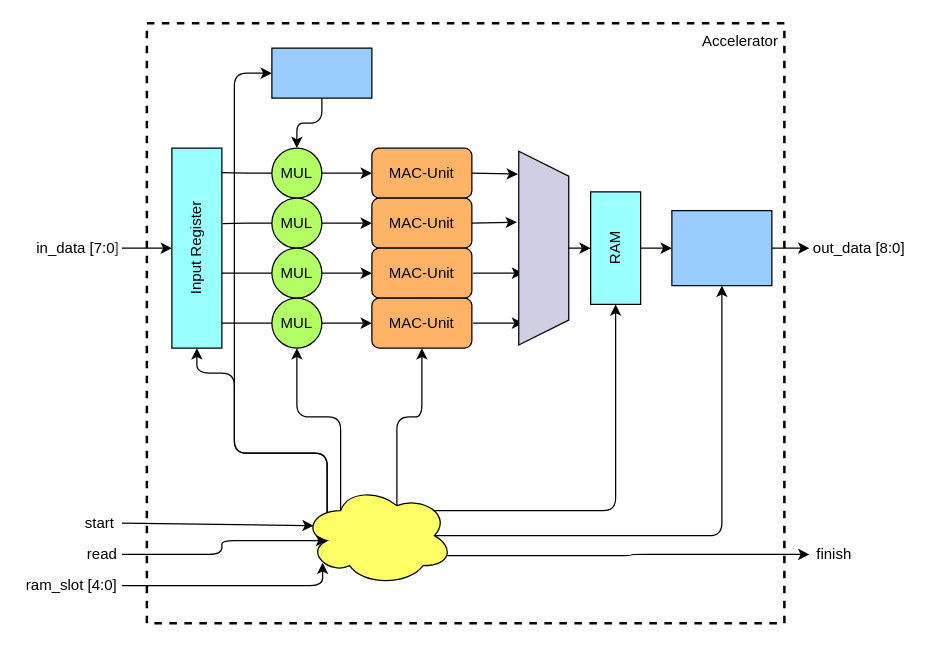
The diagram is 930 pixels wide and 645 high, and some of its shapes have lost their labels. Here are the shapes that lost their labels. From the top down, the centre of each, then its label:
point 321,72: ROM
point 543,247: RAM MUX
point 721,247: Output Logic
point 377,535: Control unit
